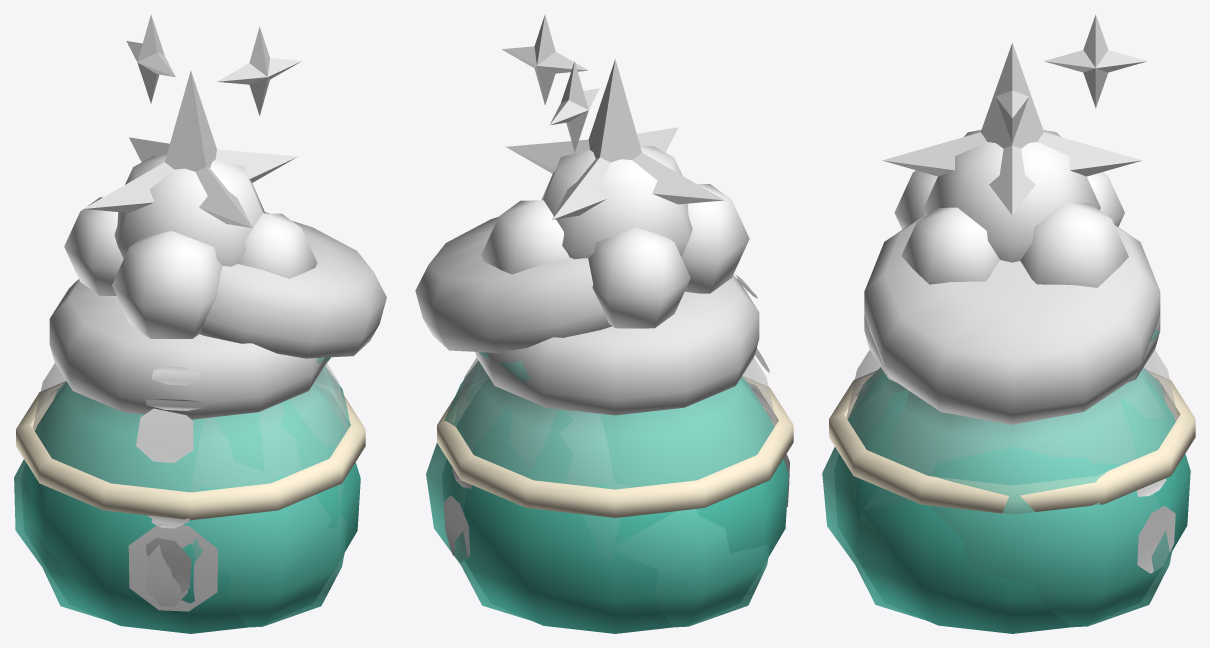
Rendered from customization-jars.fbx.
3 views of the same model, side by side, from view 1: azimuth 30°, elevation 25°; view 2: azimuth 150°, elevation 25°; view 3: azimuth 270°, elevation 25° (orthographic). The views are drawn at different scales.
Visible parts, largest first — view 1: Jar_gloss__Body, Jar_jelly__Body, Jar_matte__Topper, Jar_charm__Dome, Jar_citrus__Lid, Jar_jelly__Lid, Jar_charm__Base, Jar_gloss__Topper, Jar_gloss__Shine, Jar_charm__Shine, Jar_citrus__Shine, Jar_jelly__Shine; view 2: Jar_gloss__Body, Jar_matte__Topper, Jar_jelly__Body, Jar_charm__Dome, Jar_citrus__Lid, Jar_jelly__Lid, Jar_charm__Base, Jar_gloss__Topper, Jar_gloss__Shine; view 3: Jar_gloss__Body, Jar_jelly__Body, Jar_jelly__Lid, Jar_matte__Topper, Jar_charm__Dome, Jar_charm__Base, Jar_gloss__Topper, Jar_gloss__Shine, Jar_citrus__Lid.
Boxes of the visible parts, bbox=[...] form: Jar_gloss__Body: bbox=[21, 383, 360, 633]; Jar_jelly__Body: bbox=[14, 357, 350, 627]; Jar_matte__Topper: bbox=[64, 155, 317, 338]; Jar_charm__Dome: bbox=[33, 363, 348, 491]; Jar_citrus__Lid: bbox=[49, 279, 327, 419]; Jar_jelly__Lid: bbox=[199, 212, 386, 358]; Jar_charm__Base: bbox=[16, 381, 365, 520]; Jar_gloss__Topper: bbox=[84, 14, 302, 227]; Jar_gloss__Shine: bbox=[128, 366, 217, 611]; Jar_charm__Shine: bbox=[136, 408, 193, 462]; Jar_citrus__Shine: bbox=[146, 519, 187, 606]; Jar_jelly__Shine: bbox=[146, 515, 191, 593]; Jar_gloss__Body: bbox=[442, 377, 788, 633]; Jar_matte__Topper: bbox=[481, 145, 749, 328]; Jar_jelly__Body: bbox=[426, 352, 769, 627]; Jar_charm__Dome: bbox=[454, 358, 776, 489]; Jar_citrus__Lid: bbox=[475, 275, 759, 415]; Jar_jelly__Lid: bbox=[415, 217, 686, 352]; Jar_charm__Base: bbox=[437, 376, 793, 517]; Jar_gloss__Topper: bbox=[502, 14, 724, 219]; Jar_gloss__Shine: bbox=[444, 274, 789, 561]; Jar_gloss__Body: bbox=[834, 371, 1190, 633]; Jar_jelly__Body: bbox=[822, 328, 1172, 627]; Jar_jelly__Lid: bbox=[864, 214, 1160, 424]; Jar_matte__Topper: bbox=[894, 130, 1128, 287]; Jar_charm__Dome: bbox=[846, 350, 1178, 475]; Jar_charm__Base: bbox=[829, 370, 1195, 514]; Jar_gloss__Topper: bbox=[882, 14, 1147, 215]; Jar_gloss__Shine: bbox=[866, 386, 1175, 573]; Jar_citrus__Lid: bbox=[864, 315, 1160, 382].
Size of the model in its own units: 118 by 188 by 111.
